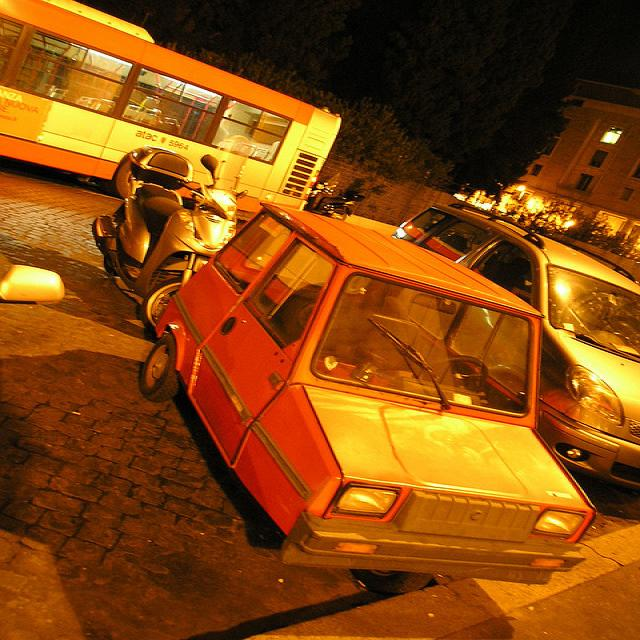motor: (94, 149, 242, 318), (304, 192, 366, 221)
